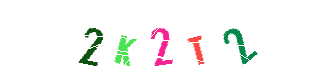2: (93, 0, 173, 80), (124, 0, 204, 80), (134, 0, 214, 80)
K: (122, 0, 202, 80)
T: (131, 0, 211, 80)
